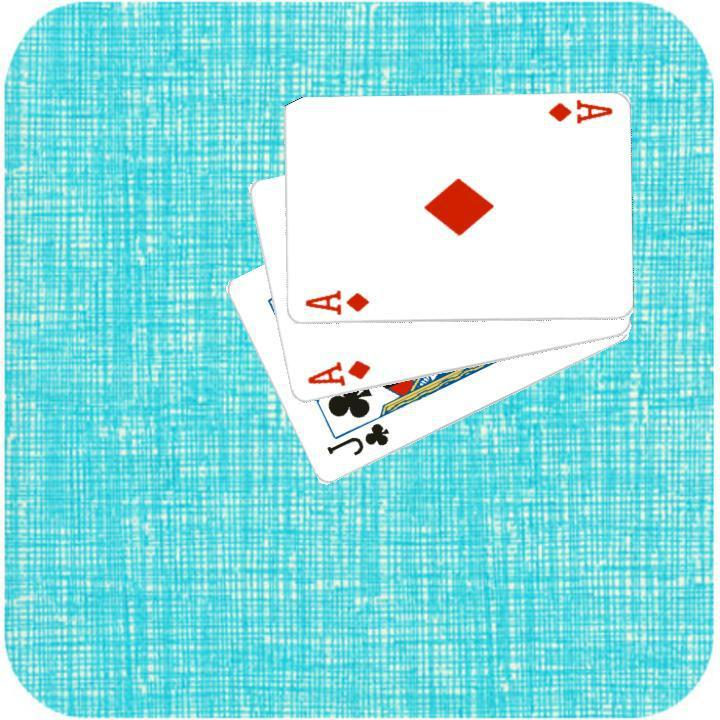A: (302, 356, 372, 389), (300, 286, 370, 317), (544, 97, 614, 127)
J: (322, 419, 391, 459)
